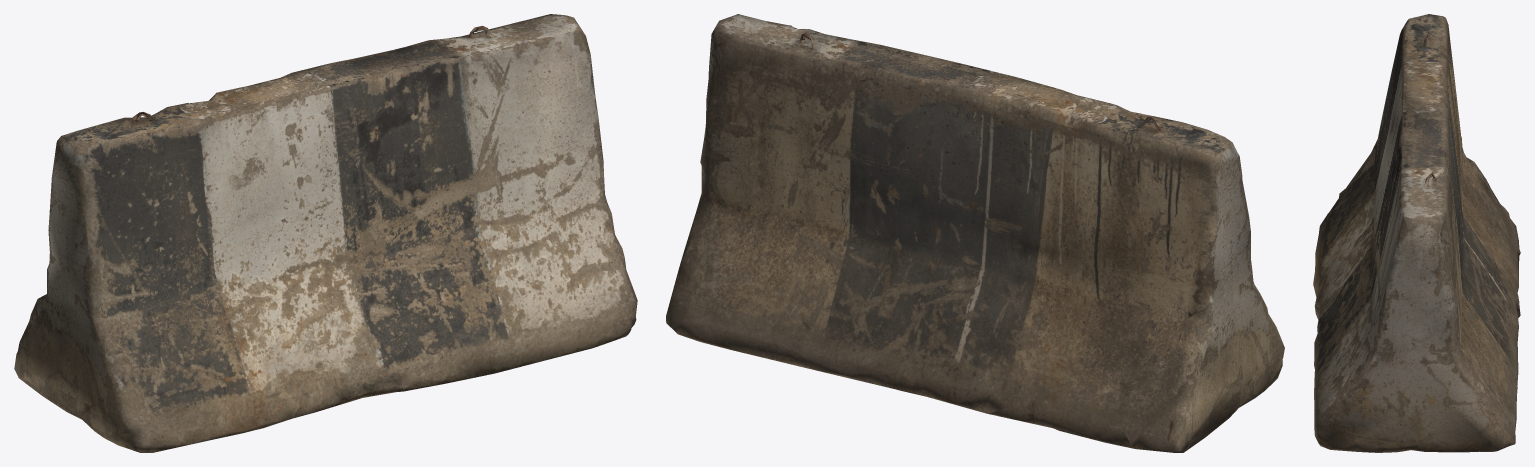
The model's file is concrete_road_barrier.glb.
3 views of the same model, side by side, from view 1: azimuth 30°, elevation 25°; view 2: azimuth 150°, elevation 25°; view 3: azimuth 270°, elevation 25° (orthographic). The views are drawn at different scales.
Parts seen in each view (by area): view 1: concrete_road_barrier; view 2: concrete_road_barrier; view 3: concrete_road_barrier.
Part boxes in pixels (box(x1,y1,x2,y2)): concrete_road_barrier: box(14, 14, 637, 452); concrete_road_barrier: box(666, 14, 1284, 452); concrete_road_barrier: box(1313, 14, 1520, 452).
Bounding box in the file's own units: 1.54 × 0.8299 × 0.6379.
1 material, 1 textured.
